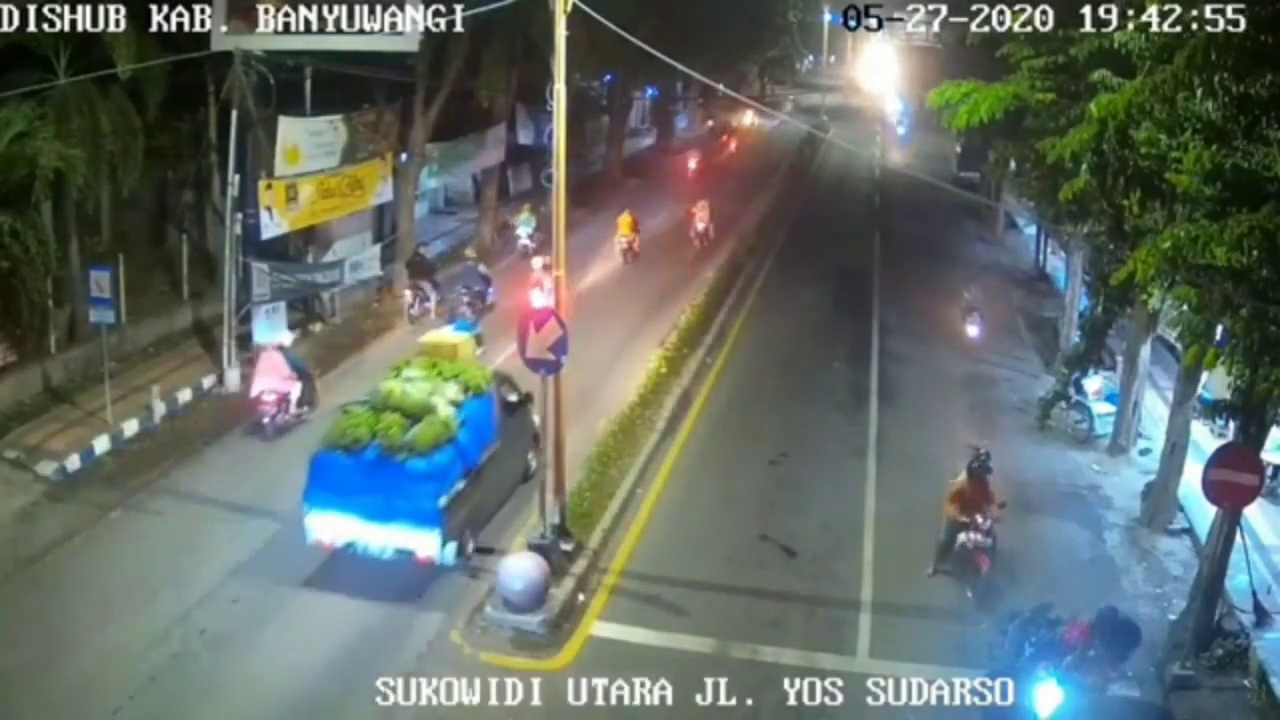car: (303, 327, 547, 563)
motorbike: (942, 442, 1005, 605), (251, 334, 320, 436), (402, 243, 443, 322), (458, 244, 497, 325), (959, 276, 990, 348), (521, 251, 552, 311), (616, 207, 642, 274), (688, 196, 714, 251), (515, 202, 541, 256)
